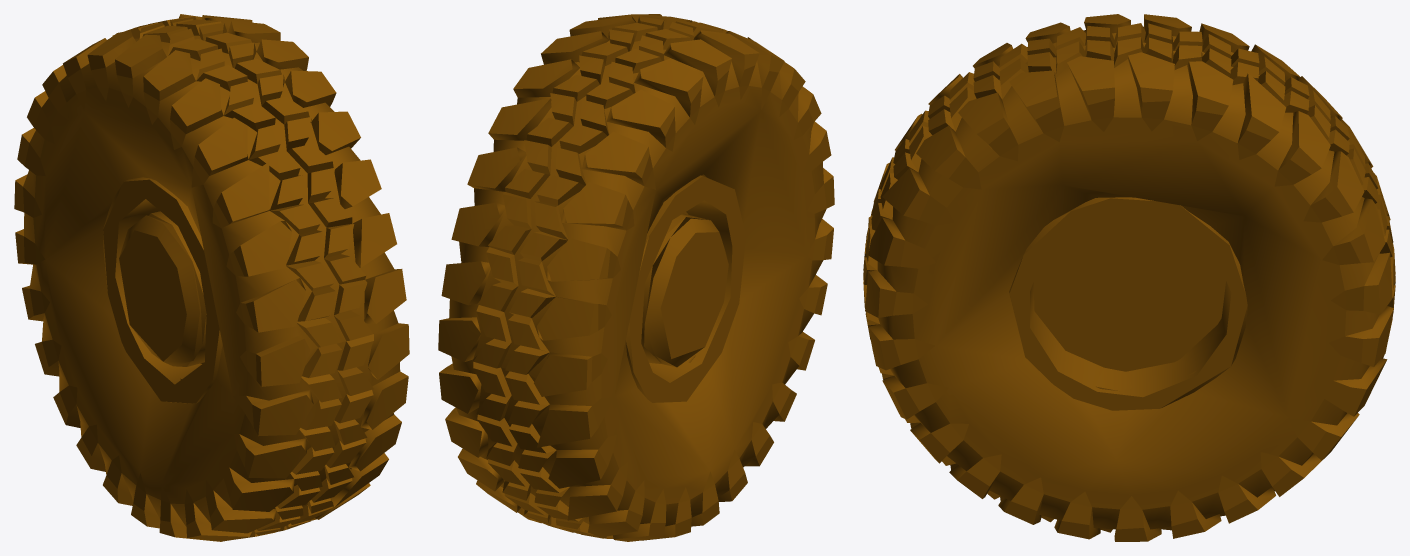
Rendered from Pickup_Wheel.FBX.
3 renders of one model, left to right at view 1: azimuth 30°, elevation 25°; view 2: azimuth 150°, elevation 25°; view 3: azimuth 270°, elevation 25°, orthographic.
Parts seen in each view (by area): view 1: Pickup_Wheel; view 2: Pickup_Wheel; view 3: Pickup_Wheel.
Boxes of the visible parts, box(x1,y1,x2,y2) form: Pickup_Wheel: box(14, 14, 409, 541); Pickup_Wheel: box(438, 14, 834, 541); Pickup_Wheel: box(863, 14, 1395, 541).
Size of the model in its own units: 40.19 by 122 by 122.
